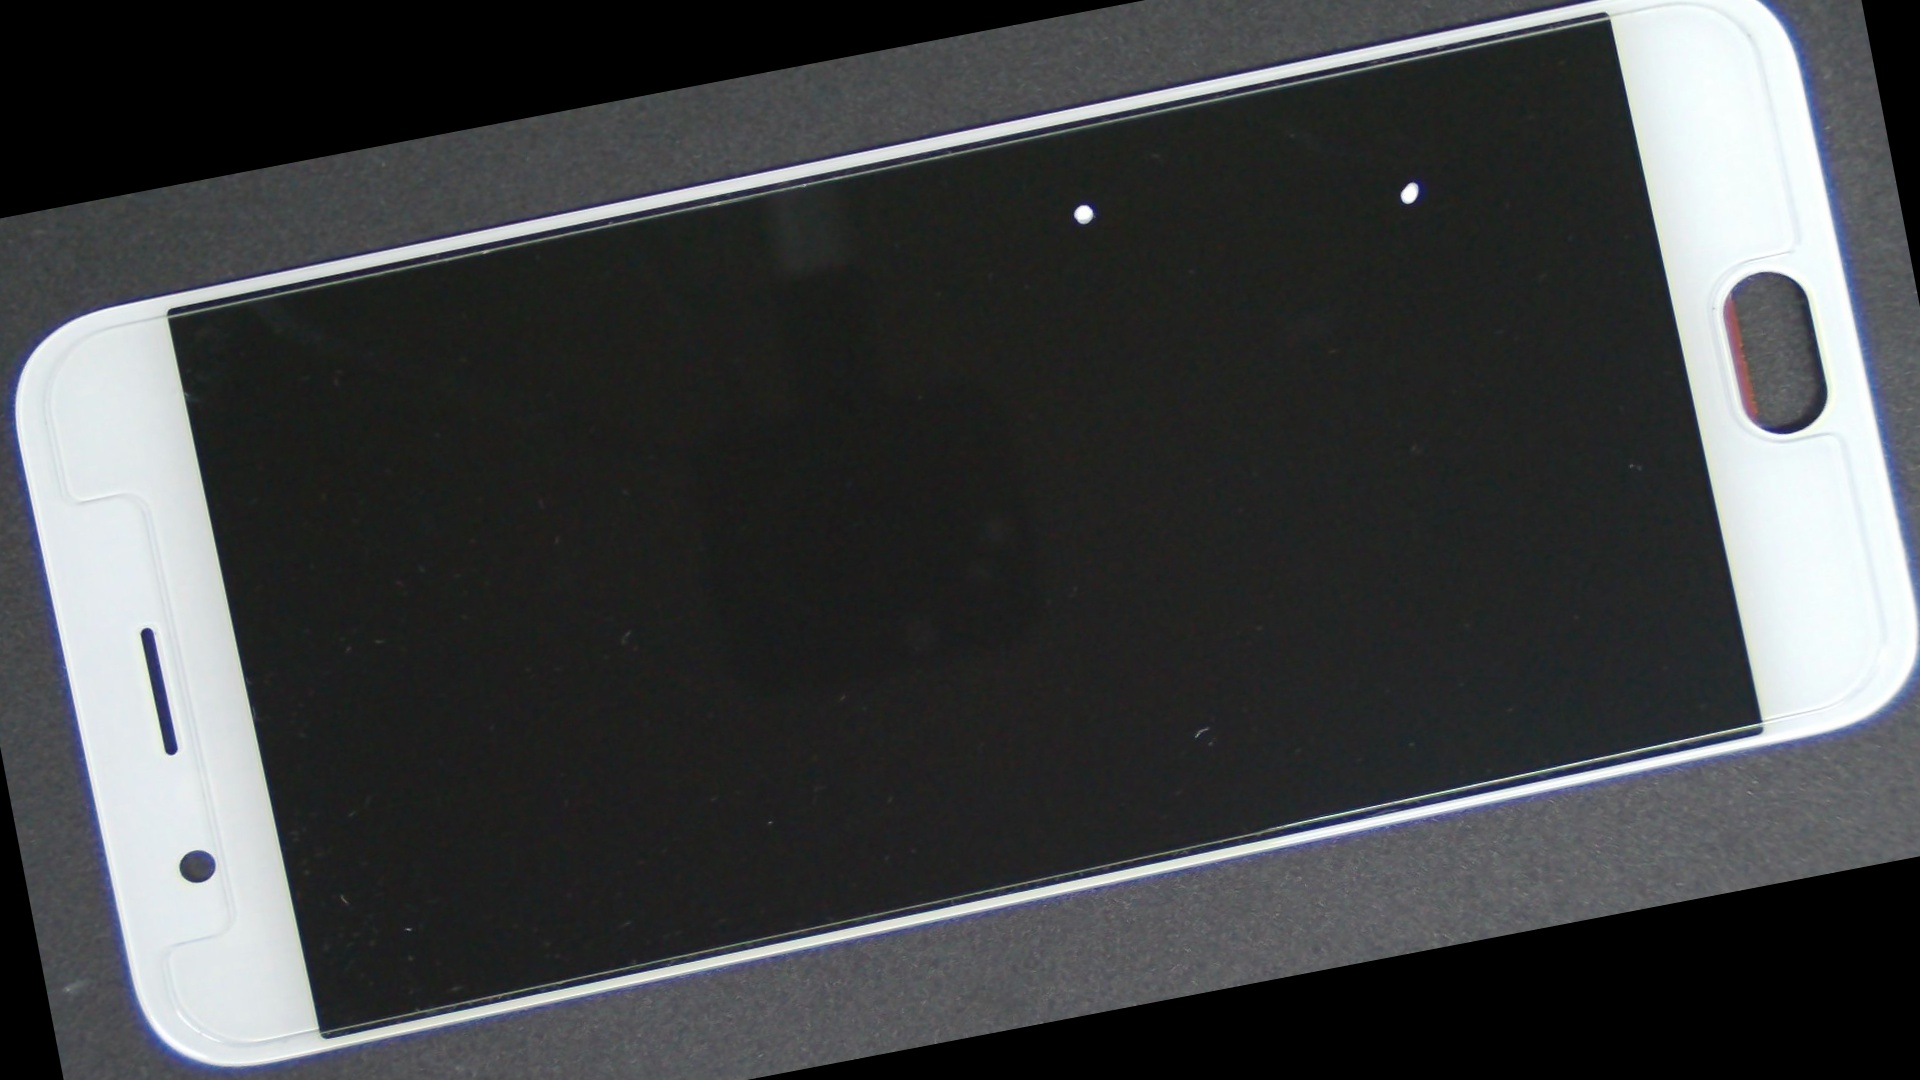oil: (657, 0, 1900, 433), (492, 3, 1668, 406)
